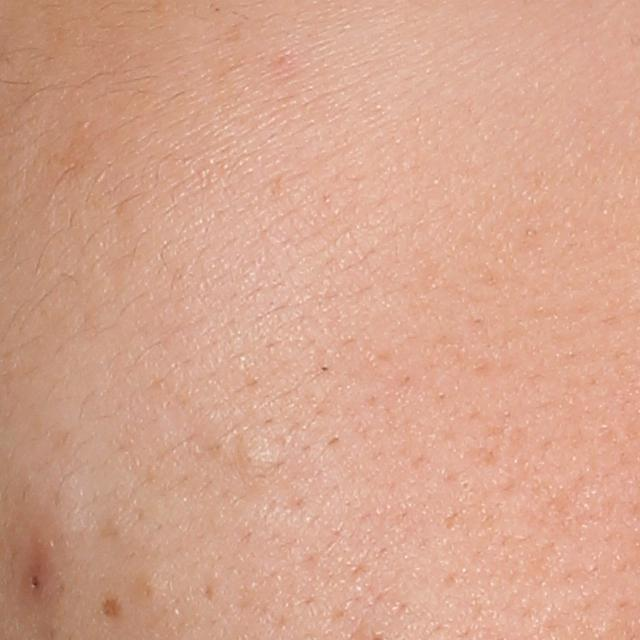comedo: (234, 430, 282, 480)
nevus: (96, 595, 122, 623)
